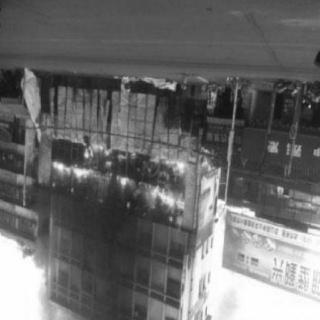Fire: (50, 154, 187, 214)
